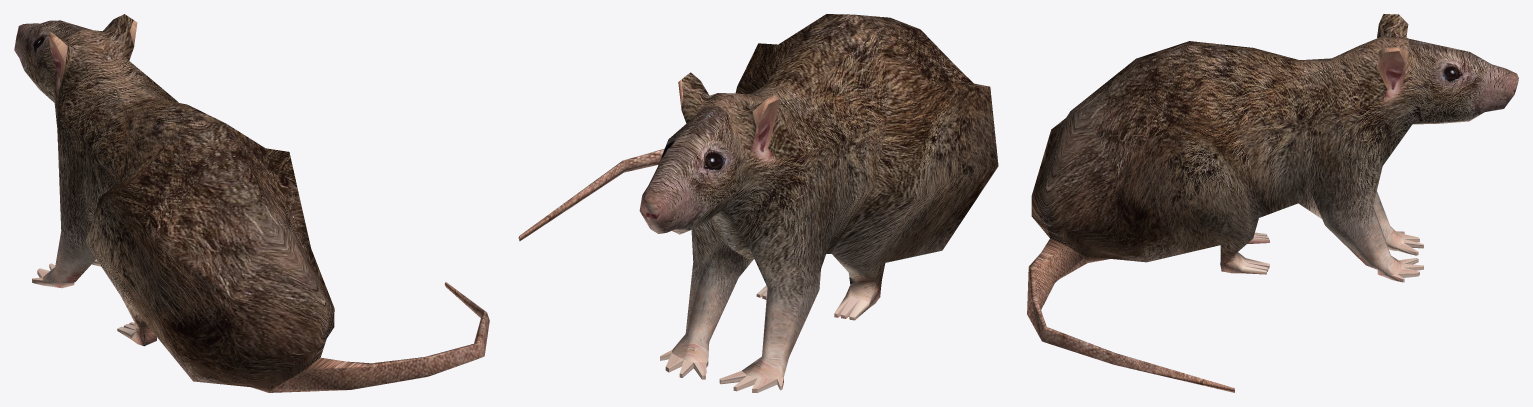
Rendered from Rat.fbx.
3 renders of one model, left to right at view 1: azimuth 30°, elevation 25°; view 2: azimuth 150°, elevation 25°; view 3: azimuth 270°, elevation 25°, orthographic. The views are drawn at different scales.
Parts seen in each view (by area): view 1: rat; view 2: rat; view 3: rat.
Boxes of the visible parts, x1,y1,x2,y2 form: rat: [14, 14, 489, 392]; rat: [518, 14, 998, 392]; rat: [1027, 14, 1518, 392].
Bounding box in the file's own units: 0.2975 × 0.2102 × 0.3869.
1 material, 1 textured.
